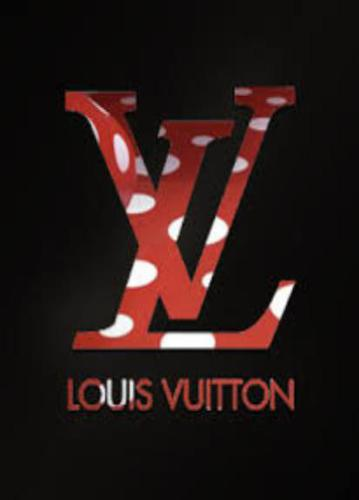LOUIS-VUITTON: (62, 73, 303, 358), (52, 370, 306, 419)
